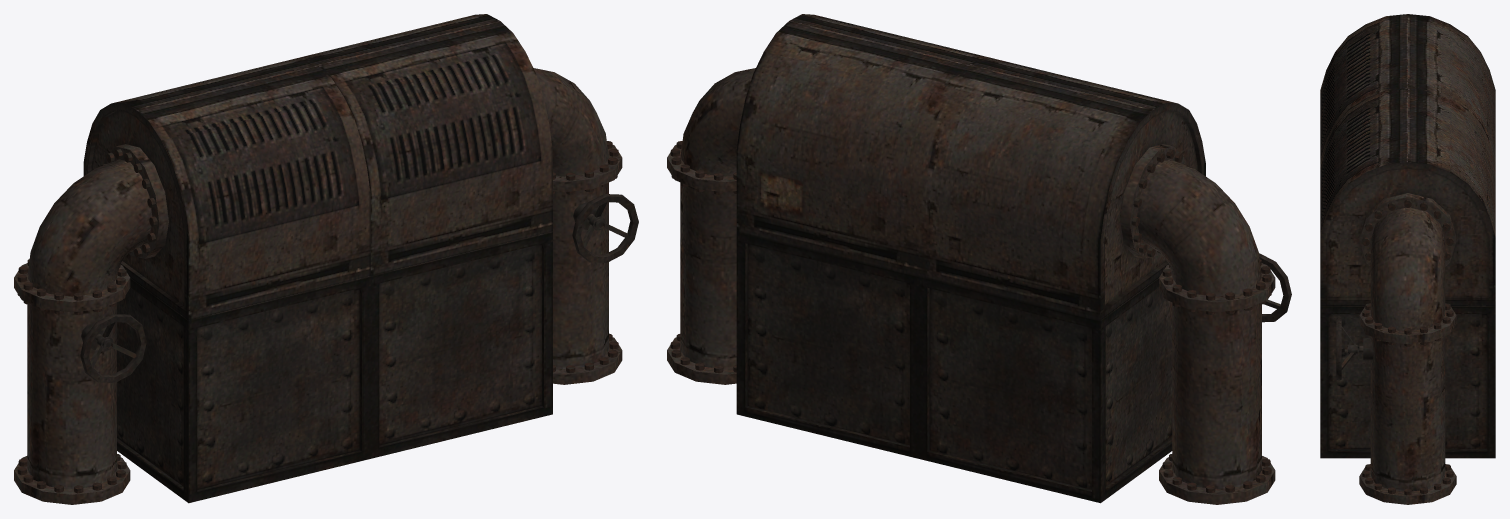
The model's file is machinery_mx_1.dae.
3 renders of one model, left to right at view 1: azimuth 30°, elevation 25°; view 2: azimuth 150°, elevation 25°; view 3: azimuth 270°, elevation 25°, orthographic. The views are drawn at different scales.
Parts seen in each view (by area): view 1: machinery_mx_1; view 2: machinery_mx_1; view 3: machinery_mx_1.
Boxes of the visible parts, <box> form: machinery_mx_1: <box>14,14,638,504</box>; machinery_mx_1: <box>667,14,1291,504</box>; machinery_mx_1: <box>1320,14,1495,504</box>.
Bounding box in the file's own units: 3.06 × 0.94 × 1.75.
1 material, 1 textured.
